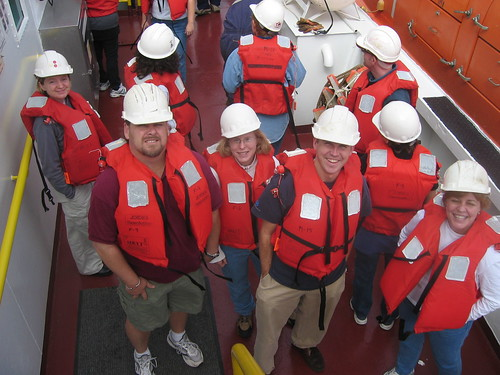person hardhat: (88, 83, 211, 375), (254, 104, 372, 374), (384, 157, 500, 375), (20, 48, 124, 280), (348, 103, 440, 334), (202, 103, 278, 347), (347, 24, 424, 174), (223, 1, 300, 150), (123, 21, 200, 146)
